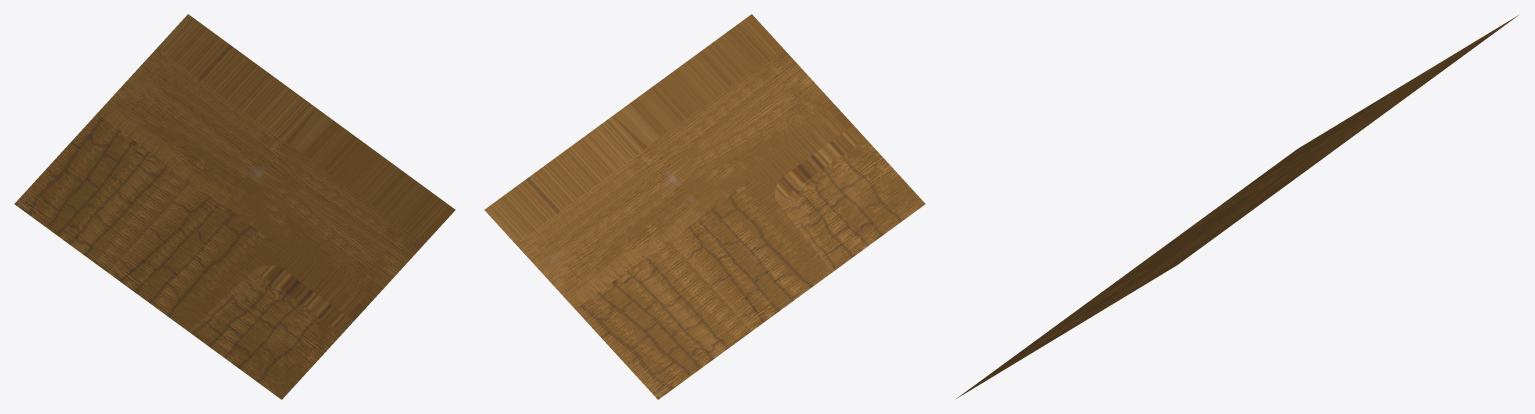
The model's file is Map.fbx.
3 renders of one model, left to right at view 1: azimuth 30°, elevation 25°; view 2: azimuth 150°, elevation 25°; view 3: azimuth 330°, elevation 25°, orthographic. The views are drawn at different scales.
Visible parts, largest first — view 1: Map; view 2: Map; view 3: Map.
Boxes of the visible parts, x1=… form: Map: x1=14, y1=14, x2=455, y2=399; Map: x1=484, y1=14, x2=925, y2=399; Map: x1=955, y1=14, x2=1519, y2=399.
Bounding box in the file's own units: 4.53 × 3.68 × 12.08.
Materials: 1 (1 with a texture image).
